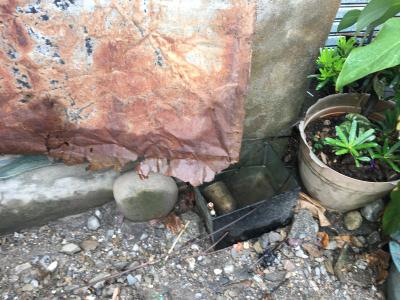box: (191, 140, 302, 249)
